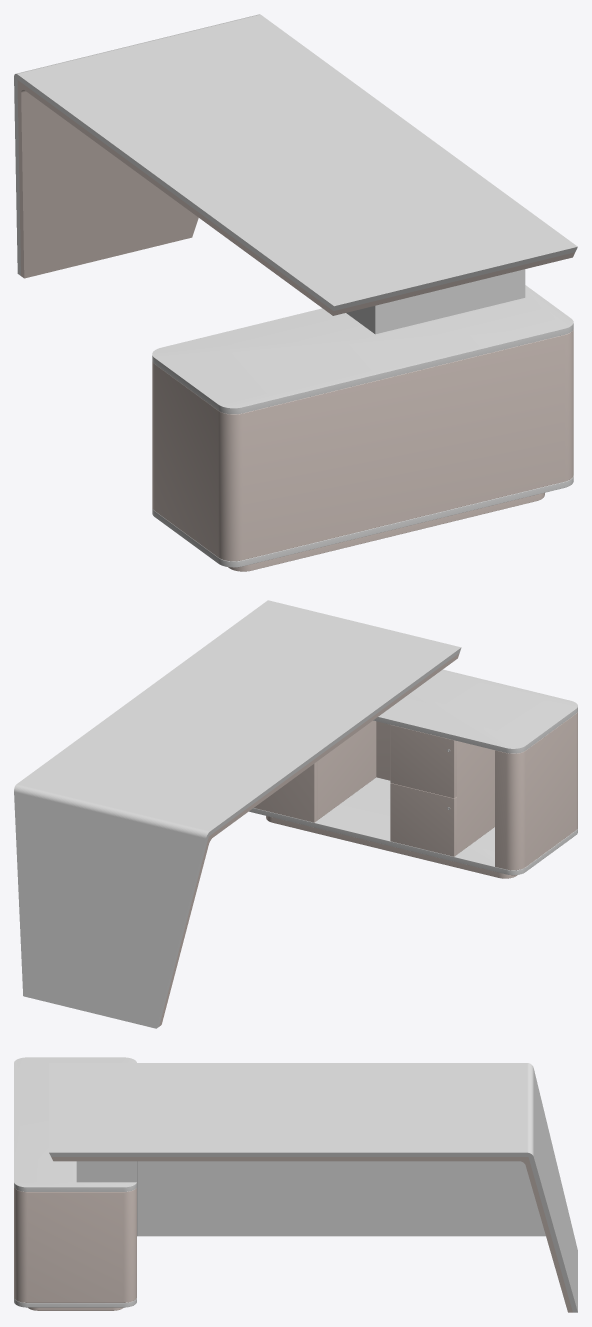
The model's file is fbx_office_desk_03.fbx.
3 renders of one model, top to bottom at view 1: azimuth 30°, elevation 25°; view 2: azimuth 150°, elevation 25°; view 3: azimuth 270°, elevation 25°, orthographic. The views are drawn at different scales.
Parts seen in each view (by area): view 1: Plane.098, Plane.099, Plane.070, Cube.004, Plane.101, Plane.103; view 2: Plane.098, Plane.099, Plane.070, Plane.101, Plane.104, Plane.107, Plane.102, Plane.106, Plane.103; view 3: Plane.098, Plane.100, Plane.099, Plane.070, Cube.004, Plane.101, Plane.103.
Part boxes in pixels (x1,y1,x2,y2): Plane.098: [14, 14, 577, 315]; Plane.099: [152, 329, 573, 561]; Plane.070: [152, 285, 573, 414]; Cube.004: [346, 269, 525, 334]; Plane.101: [152, 476, 573, 567]; Plane.103: [228, 493, 544, 571]; Plane.098: [14, 600, 461, 1028]; Plane.099: [254, 712, 577, 870]; Plane.070: [373, 669, 577, 753]; Plane.101: [249, 777, 577, 875]; Plane.104: [390, 783, 456, 856]; Plane.107: [390, 725, 456, 798]; Plane.102: [457, 741, 494, 854]; Plane.106: [317, 720, 376, 820]; Plane.103: [266, 816, 517, 878]; Plane.098: [49, 1063, 577, 1312]; Plane.100: [137, 1161, 545, 1236]; Plane.099: [14, 1187, 136, 1302]; Plane.070: [14, 1057, 136, 1191]; Cube.004: [76, 1161, 136, 1182]; Plane.101: [14, 1298, 136, 1307]; Plane.103: [28, 1307, 123, 1310].
Bounding box in the file's own units: 127 × 75.46 × 220.
